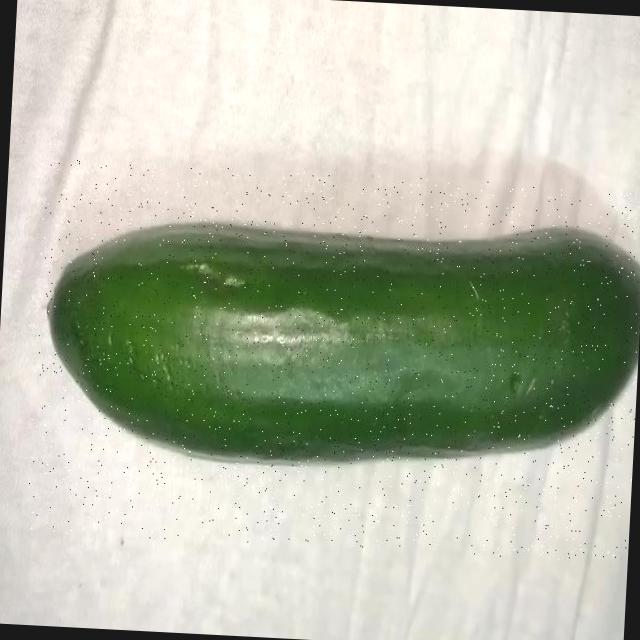Cucumber: (36, 202, 640, 481)
